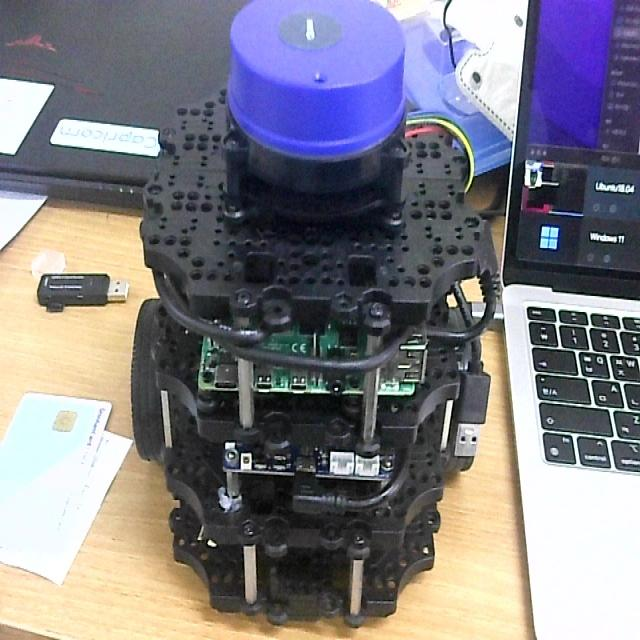turtle: (127, 0, 501, 640)
